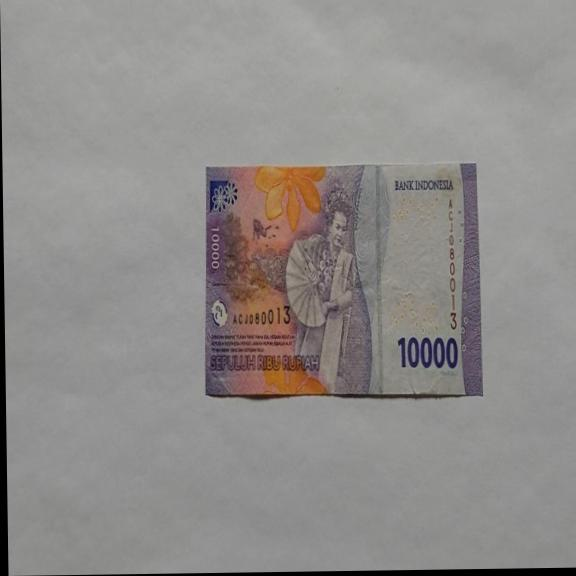Kertas: (202, 159, 482, 401), (397, 332, 459, 371)
